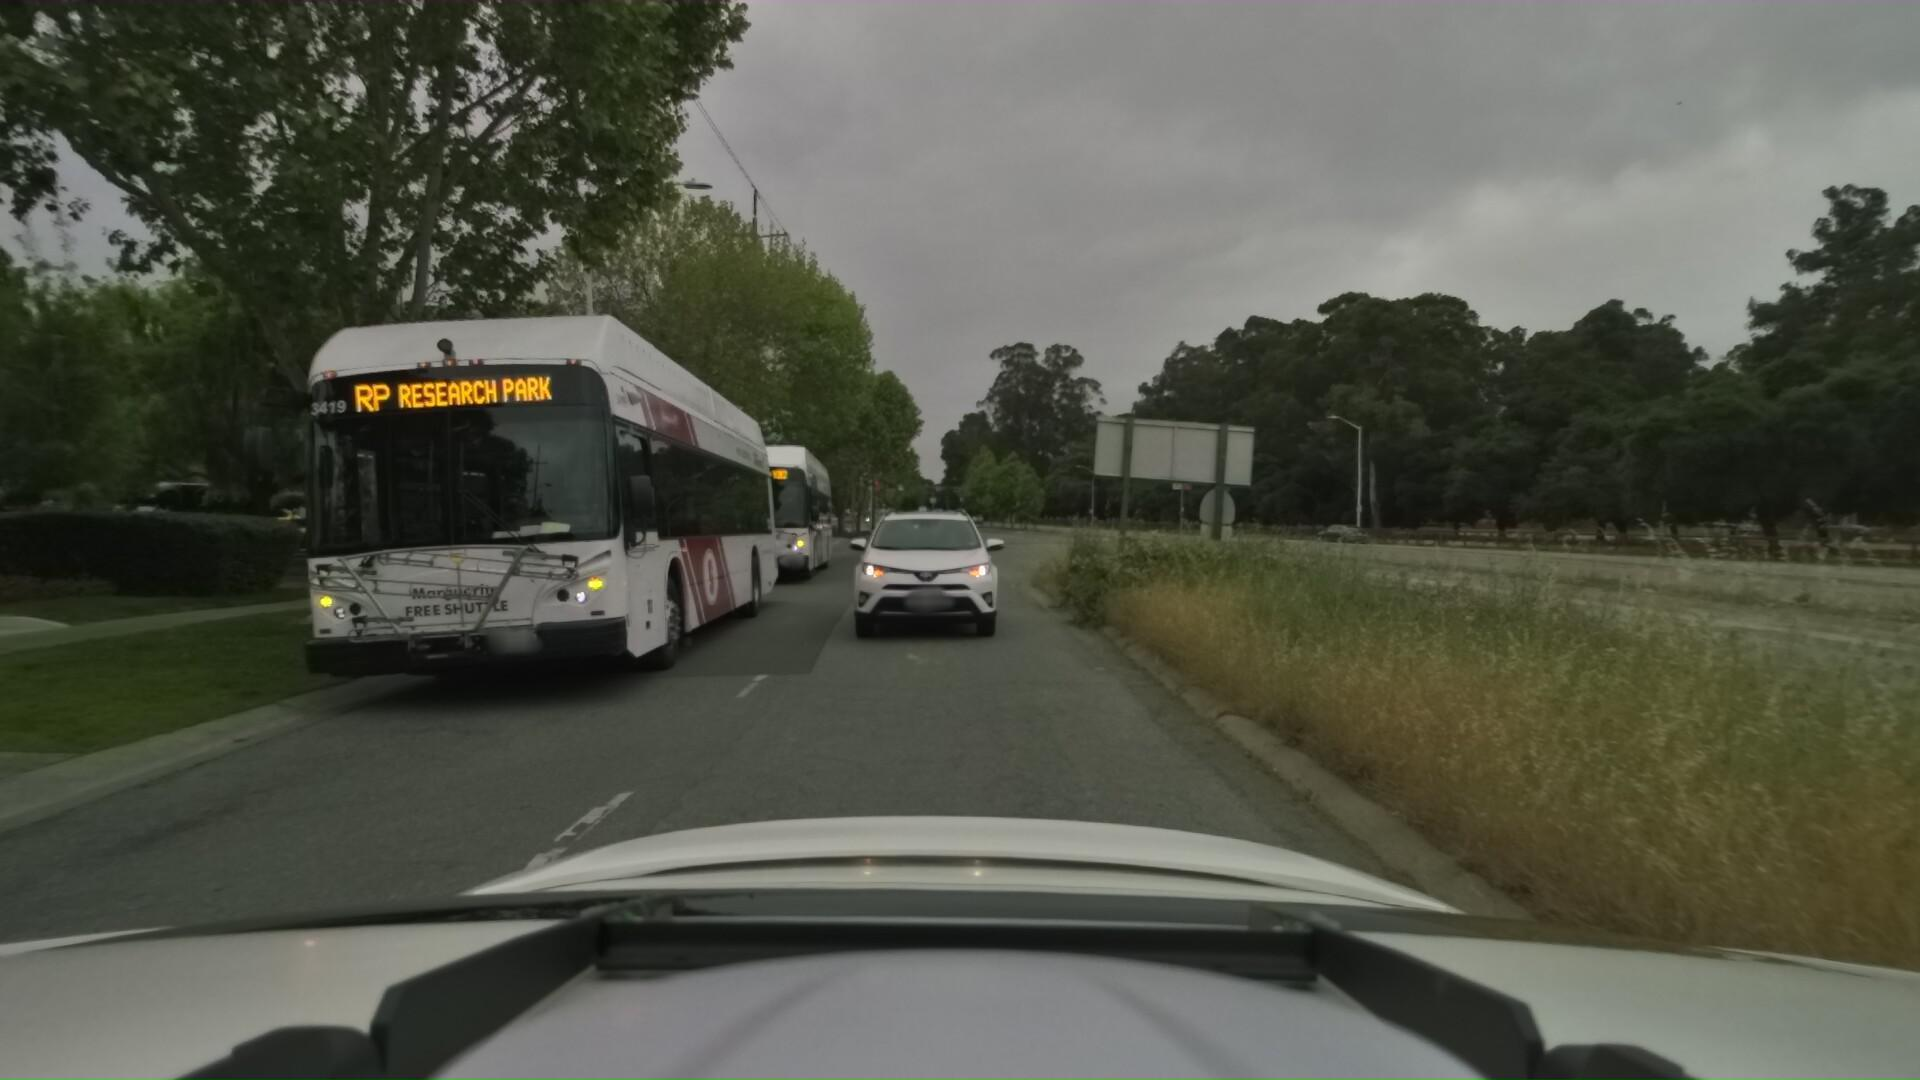bus: (245, 286, 793, 777), (688, 436, 837, 597), (80, 475, 299, 546)
car: (828, 500, 1014, 657), (0, 516, 165, 603), (1313, 517, 1373, 542), (0, 502, 4, 551)
